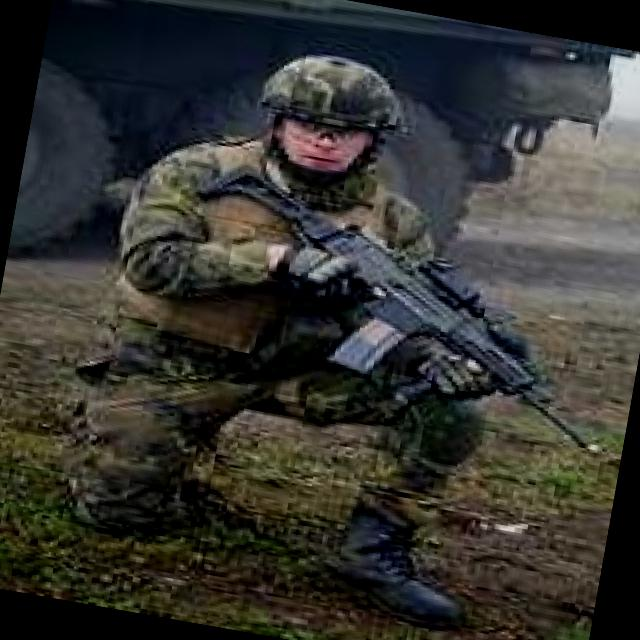long weapon: (152, 159, 630, 455)
